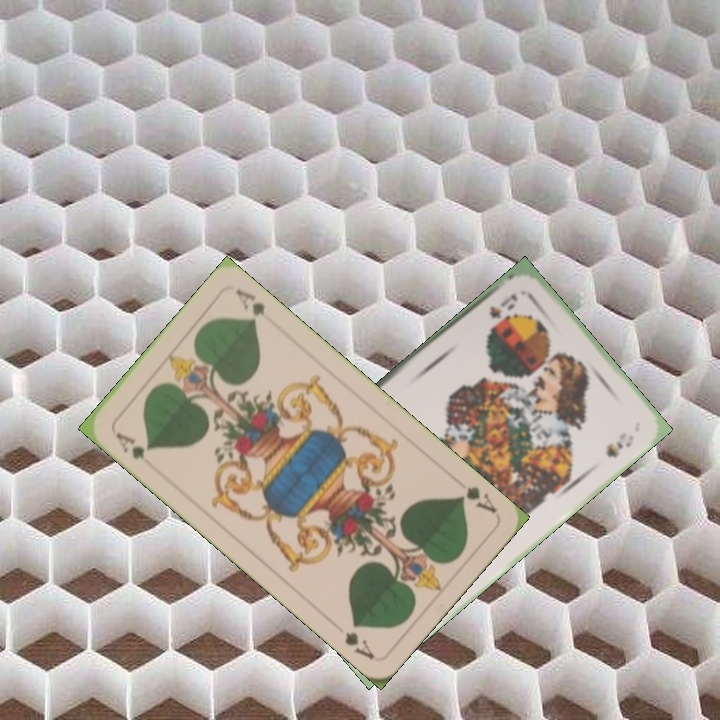GA: (454, 482, 500, 516), (112, 428, 153, 462)
SO: (485, 289, 520, 322)
